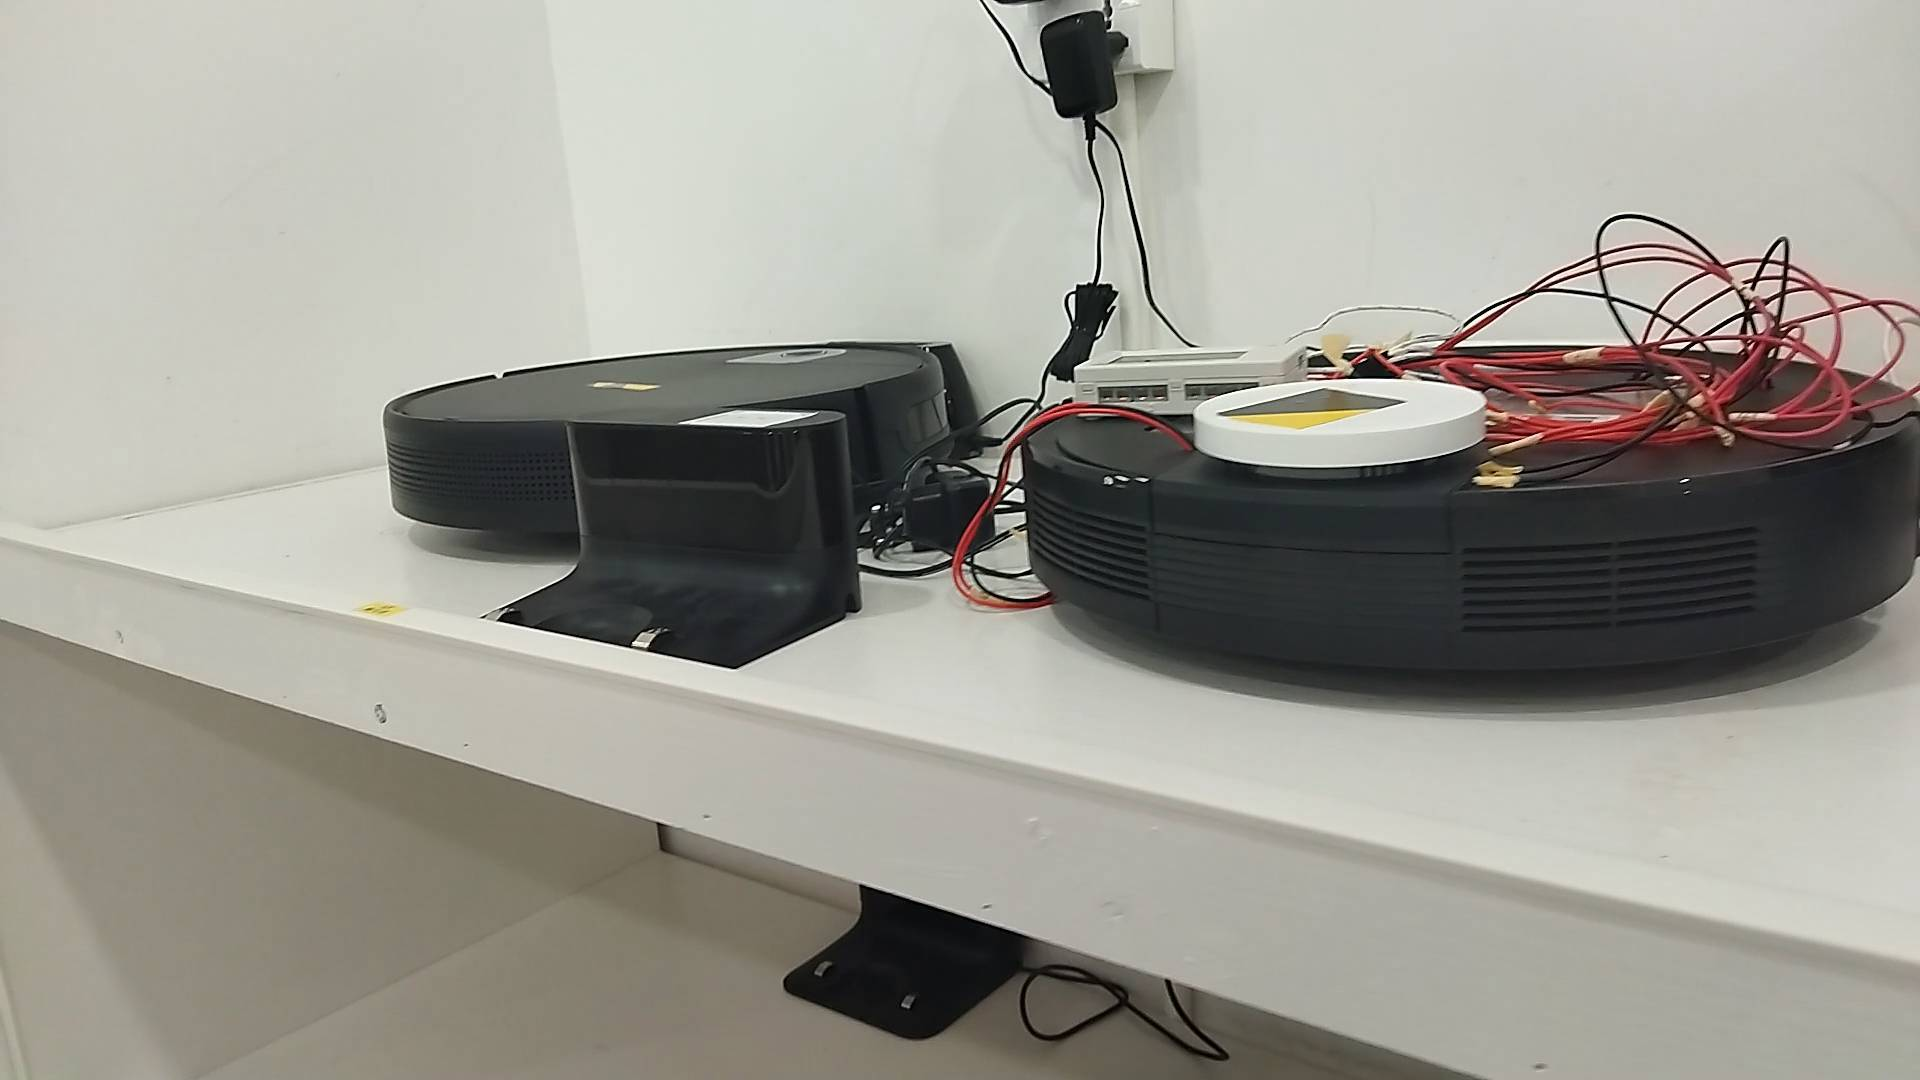recharge seat: (476, 406, 866, 669), (781, 884, 1036, 1042)
